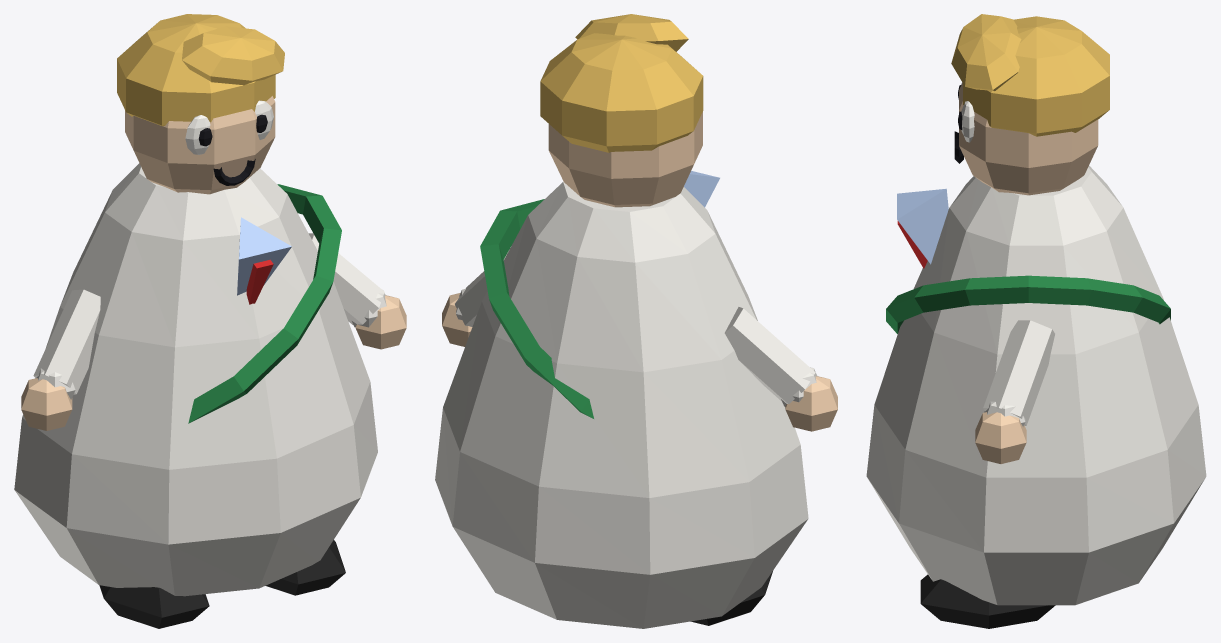
File: npc_politico.glb
The picture shows the model from 3 angles, left to right: view 1: azimuth 30°, elevation 25°; view 2: azimuth 150°, elevation 25°; view 3: azimuth 270°, elevation 25°; orthographic projection. The views are drawn at different scales.
Parts seen in each view (by area): view 1: body_white_suit, head_hair_blond, head_skin_crema, body_sash, arms_white_suit, legs_shiny_shoes, arms_skin_crema, body_shirt_blue, face_white, face_black, body_red_tie; view 2: body_white_suit, head_hair_blond, head_skin_crema, arms_white_suit, body_sash, arms_skin_crema, legs_shiny_shoes, body_shirt_blue; view 3: body_white_suit, head_hair_blond, body_sash, head_skin_crema, arms_white_suit, legs_shiny_shoes, body_shirt_blue, arms_skin_crema.
Boxes of the visible parts, bbox=[...] form: body_white_suit: bbox=[14, 163, 377, 596]; head_hair_blond: bbox=[117, 14, 284, 126]; head_skin_crema: bbox=[125, 96, 275, 194]; body_sash: bbox=[188, 184, 341, 423]; arms_white_suit: bbox=[33, 233, 386, 399]; legs_shiny_shoes: bbox=[99, 540, 345, 628]; arms_skin_crema: bbox=[21, 295, 406, 430]; body_shirt_blue: bbox=[237, 217, 291, 295]; face_white: bbox=[185, 100, 273, 154]; face_black: bbox=[198, 114, 267, 185]; body_red_tie: bbox=[246, 259, 273, 304]; body_white_suit: bbox=[435, 182, 808, 628]; head_hair_blond: bbox=[540, 14, 703, 152]; head_skin_crema: bbox=[548, 112, 702, 207]; arms_white_suit: bbox=[455, 251, 817, 406]; body_sash: bbox=[480, 199, 593, 418]; arms_skin_crema: bbox=[442, 293, 837, 431]; legs_shiny_shoes: bbox=[690, 571, 772, 625]; body_shirt_blue: bbox=[684, 170, 719, 207]; body_white_suit: bbox=[866, 165, 1206, 605]; head_hair_blond: bbox=[951, 14, 1109, 136]; body_sash: bbox=[886, 275, 1170, 333]; head_skin_crema: bbox=[959, 83, 1098, 195]; arms_white_suit: bbox=[983, 320, 1054, 426]; legs_shiny_shoes: bbox=[920, 574, 1055, 628]; body_shirt_blue: bbox=[897, 188, 948, 264]; arms_skin_crema: bbox=[975, 412, 1026, 463].
Bounding box in the file's own units: 1.13 × 1.58 × 0.86.
